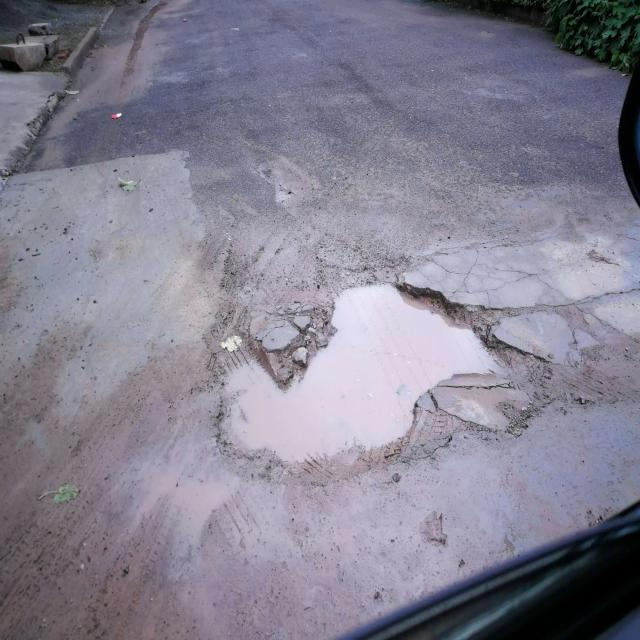Pothole: (215, 278, 519, 477)
